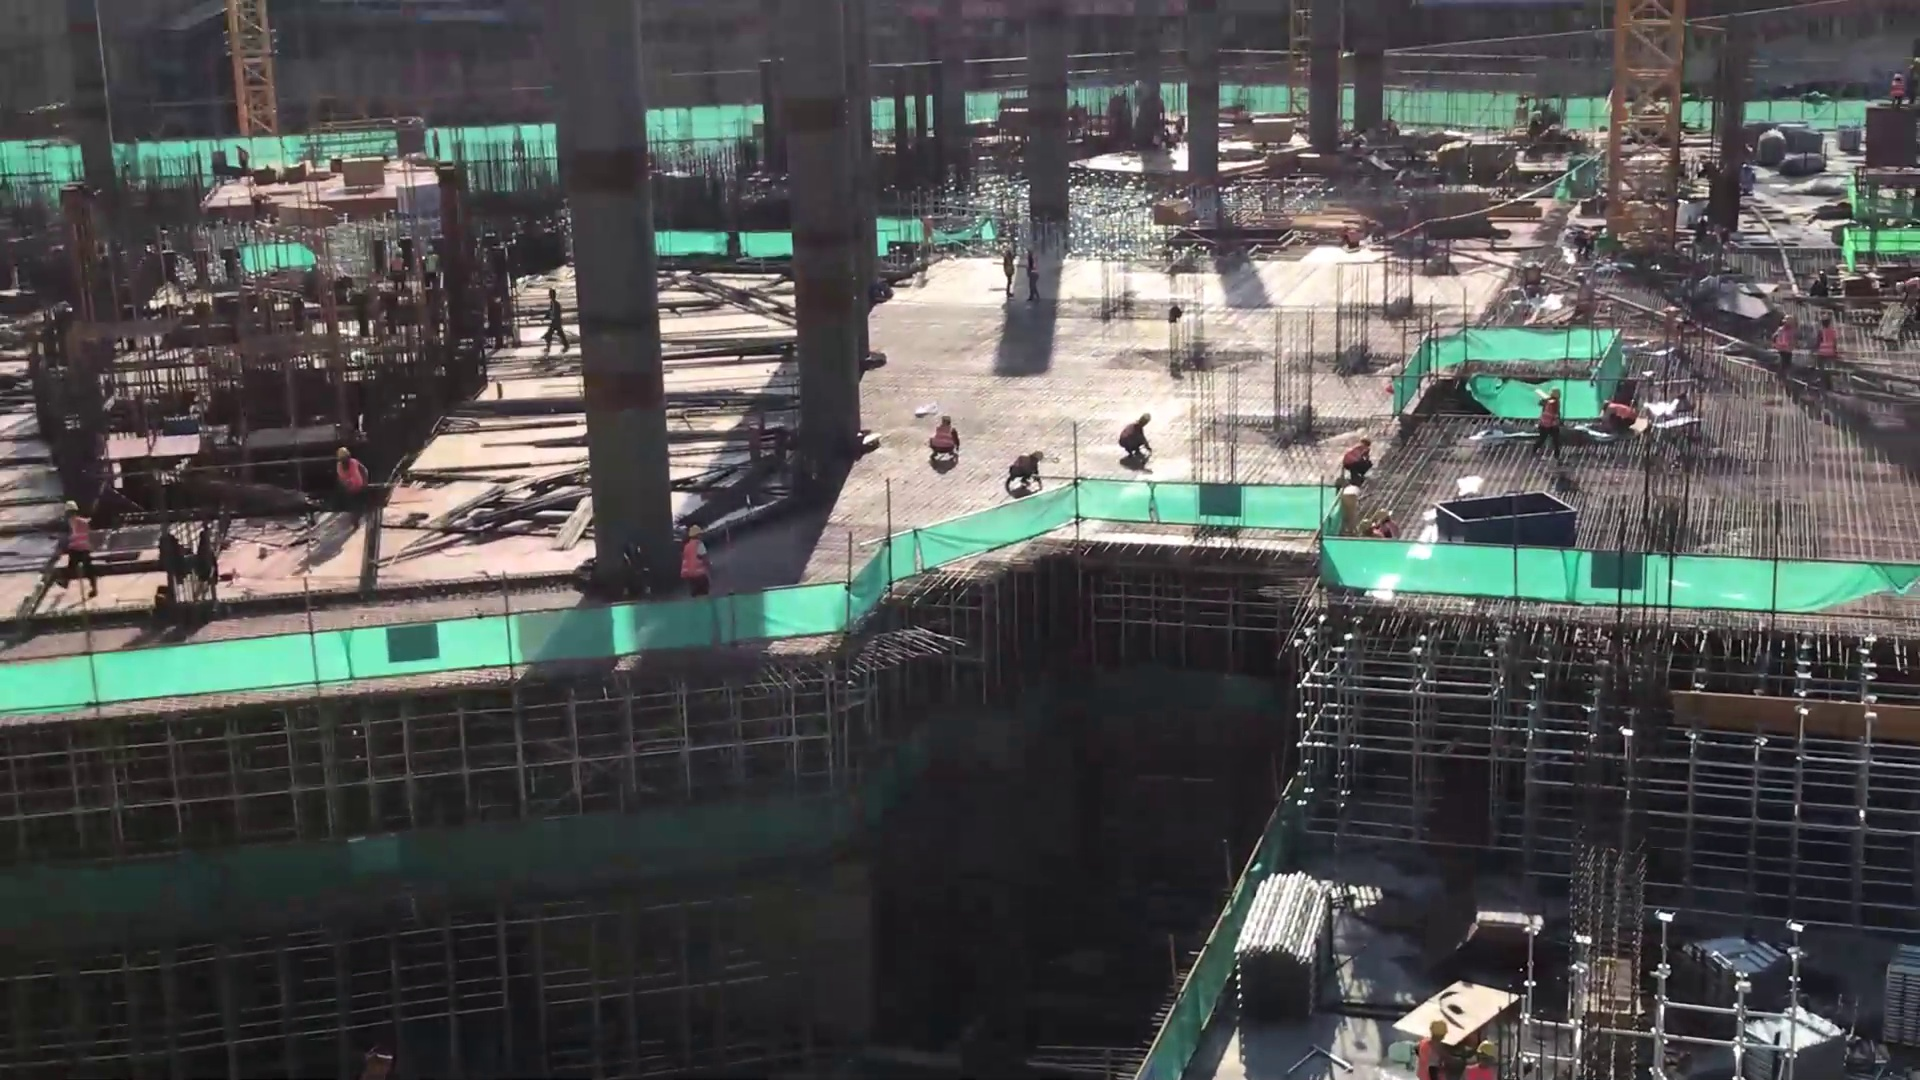hopper: (1438, 490, 1575, 548)
person: (59, 499, 97, 596), (331, 445, 371, 527), (675, 521, 713, 591), (1537, 388, 1570, 459), (542, 286, 571, 360), (1769, 311, 1796, 381), (1121, 413, 1152, 463), (928, 418, 963, 463), (1007, 451, 1048, 488), (1603, 394, 1640, 434), (1344, 434, 1371, 482), (1817, 313, 1837, 365), (1024, 249, 1043, 302), (1370, 508, 1401, 538), (998, 242, 1015, 295)
scaffold: (1238, 872, 1333, 1016)
